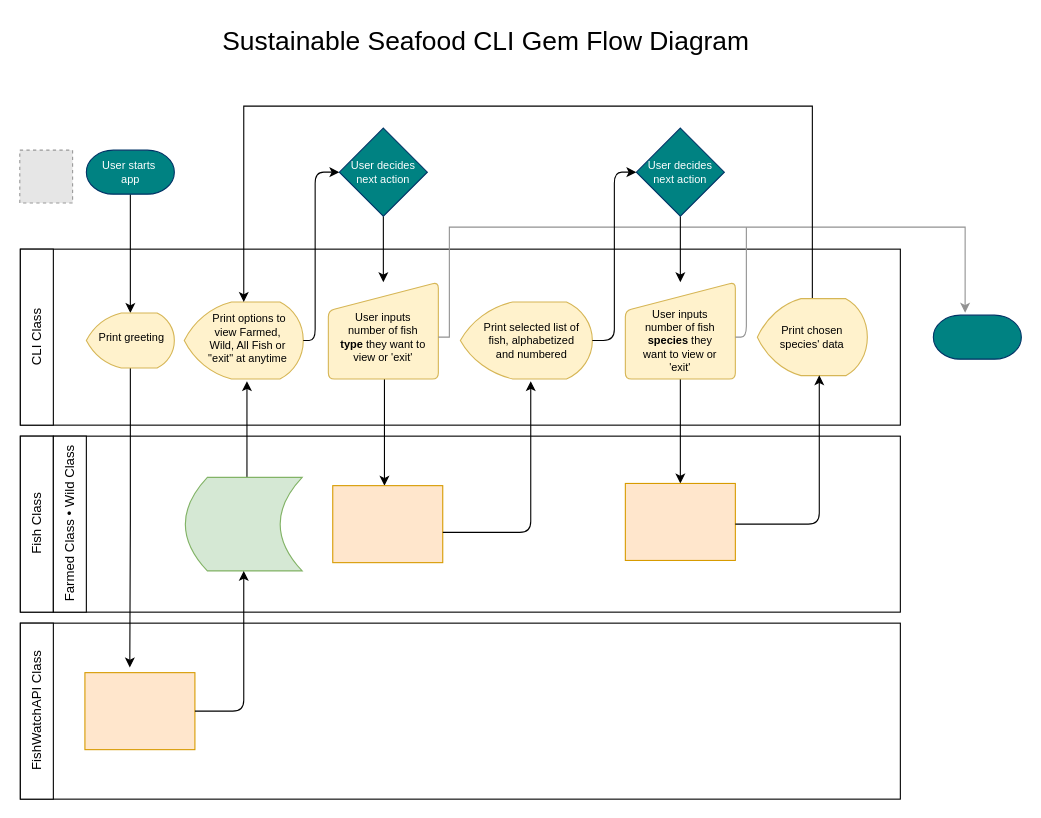
Image size: 1041x818. Some labels were removed from this diagram. Grey dashed boxes stand in for pictures. Here are the shapes that lost their labels. From the top down, the centre of each, then its label:
At pixel 976 336: "Program exits".
At pixel 243 523: "New Wild and Farmed fish objects are created and stored".
At pixel 387 524: "Retrieve the fish list user requested".
At pixel 679 521: "Retrieve the fish species data user requested".
At pixel 139 711: "Get data from FishWatch API".
